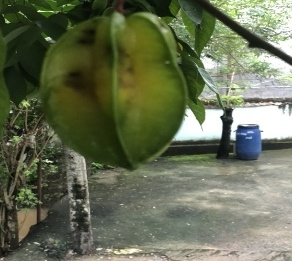Khe: (37, 9, 195, 174)
